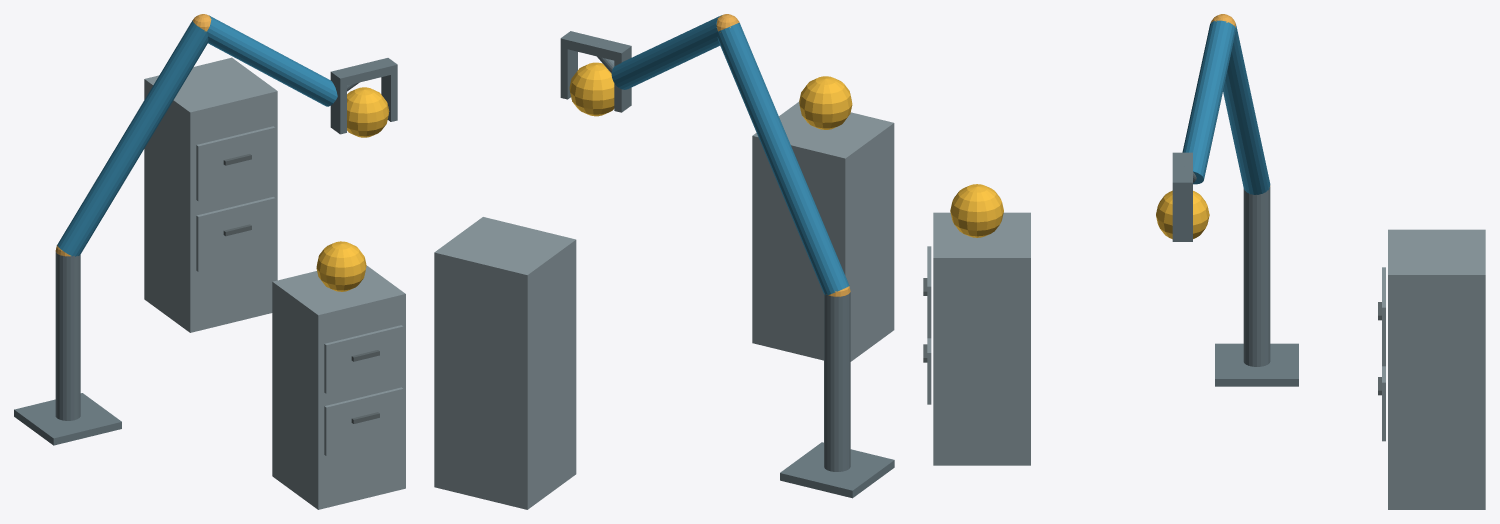
3 views of the same model, side by side, from view 1: azimuth 30°, elevation 25°; view 2: azimuth 150°, elevation 25°; view 3: azimuth 270°, elevation 25° (orthographic). The views are drawn at different scales.
Visible parts, largest first — view 1: cabinet_2 body, cabinet_1 body, moving link 1, cabinet_2 drawer front.001, cabinet_2 drawer front, fixed post, cabinet_1 drawer front.001, cabinet_1 drawer front, moving link 2, pedestal, released ball_1, ball ball_2 (+3 smaller); view 2: cabinet_2 body, cabinet_1 body, moving link 1, fixed post, pedestal, moving link 2, released ball_1, ball ball_2, gripper bridge, gripper finger 1; view 3: cabinet_2 body, cabinet_1 body, fixed post, moving link 2, moving link 1, pedestal, released ball_1, ball ball_2, gripper finger 1, gripper bridge.
Boxes of the visible parts, <box> form: cabinet_2 body: <box>144,57,277,332</box>; cabinet_1 body: <box>272,265,405,509</box>; moving link 1: <box>57,20,208,256</box>; cabinet_2 drawer front.001: <box>196,126,275,201</box>; cabinet_2 drawer front: <box>196,197,275,271</box>; fixed post: <box>55,252,80,420</box>; cabinet_1 drawer front.001: <box>324,325,403,393</box>; cabinet_1 drawer front: <box>324,387,403,455</box>; moving link 2: <box>207,15,337,106</box>; pedestal: <box>14,393,121,445</box>; released ball_1: <box>316,241,366,291</box>; ball ball_2: <box>347,87,389,137</box>; cabinet_2 body: <box>434,217,576,509</box>; cabinet_1 body: <box>752,102,894,361</box>; moving link 1: <box>717,22,849,295</box>; fixed post: <box>824,290,850,471</box>; pedestal: <box>780,442,894,498</box>; moving link 2: <box>611,15,721,89</box>; released ball_1: <box>799,76,852,129</box>; ball ball_2: <box>569,62,614,116</box>; gripper bridge: <box>560,31,631,62</box>; gripper finger 1: <box>560,47,577,99</box>; cabinet_2 body: <box>1388,229,1485,509</box>; cabinet_1 body: <box>933,212,1030,465</box>; fixed post: <box>1243,187,1270,366</box>; moving link 2: <box>1182,20,1235,184</box>; moving link 1: <box>1223,25,1270,194</box>; pedestal: <box>1215,343,1298,386</box>; released ball_1: <box>950,184,1003,237</box>; ball ball_2: <box>1156,190,1209,239</box>; gripper finger 1: <box>1172,191,1192,241</box>; gripper bridge: <box>1172,152,1192,191</box>.
Bounding box in the file's own units: 1.18 × 1.36 × 1.67.
